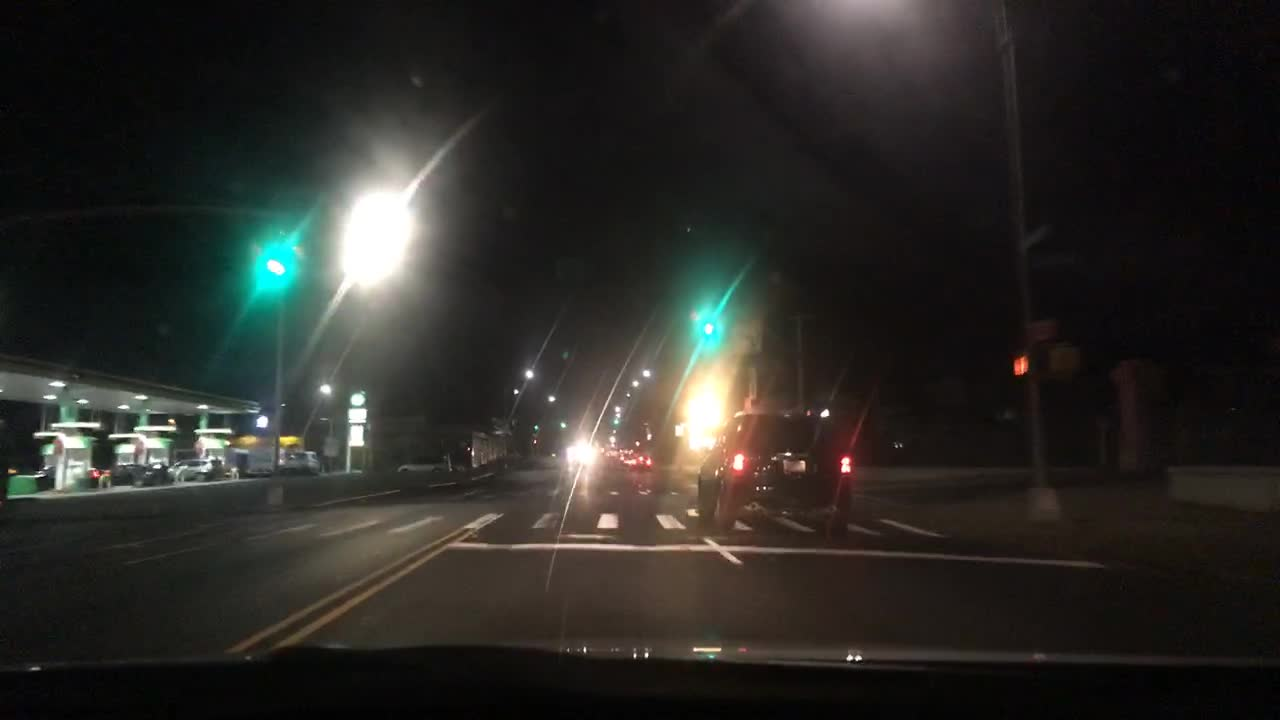car: (694, 406, 853, 537), (33, 460, 104, 489), (165, 454, 224, 482), (393, 456, 465, 474), (279, 449, 322, 476), (103, 462, 150, 485), (141, 458, 174, 485), (560, 442, 599, 462), (626, 454, 652, 469), (886, 438, 910, 451), (601, 445, 623, 457), (617, 453, 637, 462)
traffic light: (251, 247, 293, 287), (1051, 347, 1084, 374), (695, 317, 722, 341), (1011, 356, 1028, 375), (605, 416, 624, 428), (557, 419, 572, 432), (530, 419, 541, 434)
traffic sign: (1018, 215, 1053, 257), (1025, 317, 1062, 341), (1030, 257, 1082, 267), (347, 423, 364, 445), (322, 436, 338, 455), (347, 390, 366, 405), (349, 409, 366, 423), (673, 423, 688, 438)
truck: (244, 445, 276, 479)
